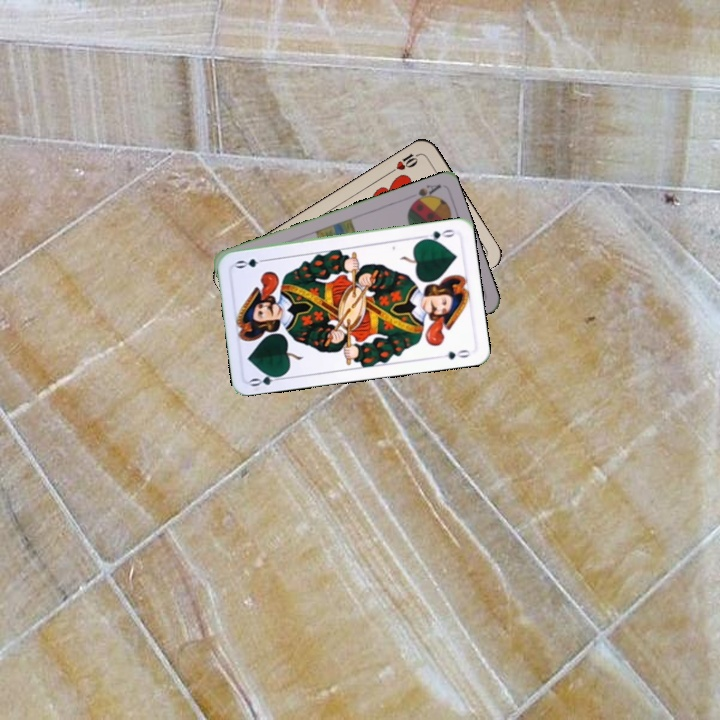GO: (246, 369, 287, 389), (417, 225, 458, 244)
H10: (386, 149, 422, 176)
SA: (407, 180, 443, 208)
